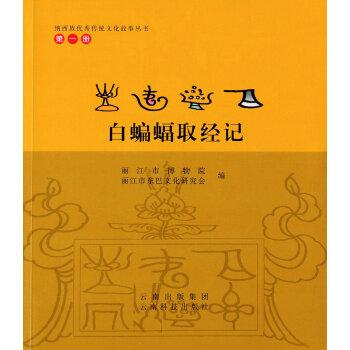chinese: (104, 118, 245, 146)
naxi: (92, 75, 265, 116)
